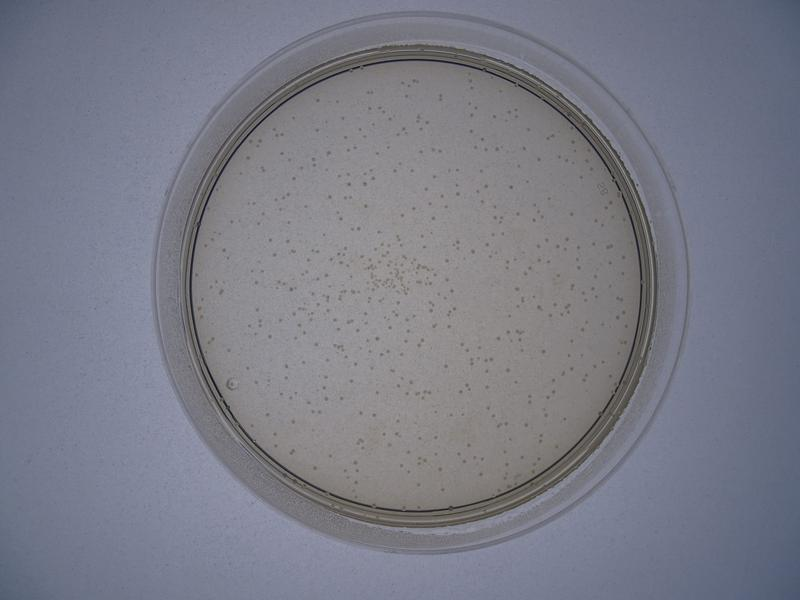colony: (282, 171, 301, 184), (360, 199, 373, 217), (439, 358, 454, 373), (411, 430, 426, 445), (415, 141, 428, 158), (310, 124, 324, 139), (298, 199, 312, 214), (262, 329, 276, 344), (499, 363, 513, 378), (517, 418, 531, 433), (535, 345, 551, 358), (330, 323, 344, 337), (552, 269, 565, 283), (522, 122, 536, 135), (339, 128, 351, 143), (517, 138, 529, 153), (514, 158, 525, 174), (268, 250, 285, 260), (395, 208, 408, 221), (509, 281, 522, 294), (479, 379, 492, 392), (512, 207, 525, 220), (429, 431, 442, 444), (481, 400, 494, 413), (337, 111, 349, 125), (370, 146, 384, 158), (288, 416, 302, 428), (320, 370, 334, 382), (397, 348, 409, 362), (394, 459, 408, 471), (355, 404, 366, 419), (419, 240, 429, 256), (240, 360, 253, 372), (444, 320, 456, 333), (319, 392, 331, 405), (533, 153, 545, 166), (359, 307, 372, 319), (464, 126, 478, 137), (343, 374, 357, 385), (370, 384, 381, 398), (389, 164, 399, 179), (549, 296, 559, 311), (522, 174, 532, 189), (421, 183, 433, 195), (408, 202, 417, 218), (564, 209, 580, 218), (288, 331, 300, 343), (453, 386, 465, 398), (383, 321, 395, 333), (375, 225, 386, 238), (362, 102, 375, 113), (368, 410, 381, 421), (542, 190, 553, 203), (358, 176, 368, 190), (492, 331, 502, 345), (529, 213, 539, 227), (463, 438, 473, 452), (435, 462, 445, 476), (342, 178, 354, 189), (249, 276, 261, 287), (274, 387, 285, 399), (539, 233, 551, 244), (282, 372, 293, 384), (429, 212, 439, 225), (426, 171, 439, 181), (505, 180, 515, 193), (335, 394, 348, 404), (437, 484, 447, 497), (436, 188, 446, 201), (272, 314, 285, 324), (372, 330, 381, 344), (479, 179, 490, 190), (446, 409, 457, 420), (310, 338, 321, 349), (400, 335, 411, 346), (588, 240, 599, 251), (263, 408, 273, 420), (404, 446, 414, 458), (424, 199, 437, 208), (443, 253, 452, 266), (406, 165, 417, 175), (324, 191, 334, 202), (298, 357, 309, 367), (412, 479, 422, 490), (402, 325, 413, 335), (391, 416, 402, 426), (326, 450, 336, 461), (469, 244, 478, 256), (252, 302, 261, 314), (254, 219, 267, 227), (563, 232, 571, 245), (337, 214, 347, 224), (302, 397, 312, 407), (424, 118, 433, 129), (483, 238, 492, 249), (448, 285, 457, 296), (476, 342, 485, 353), (452, 189, 462, 198), (478, 165, 487, 175), (265, 237, 276, 245), (284, 217, 293, 226), (284, 237, 292, 246), (444, 274, 450, 284)
